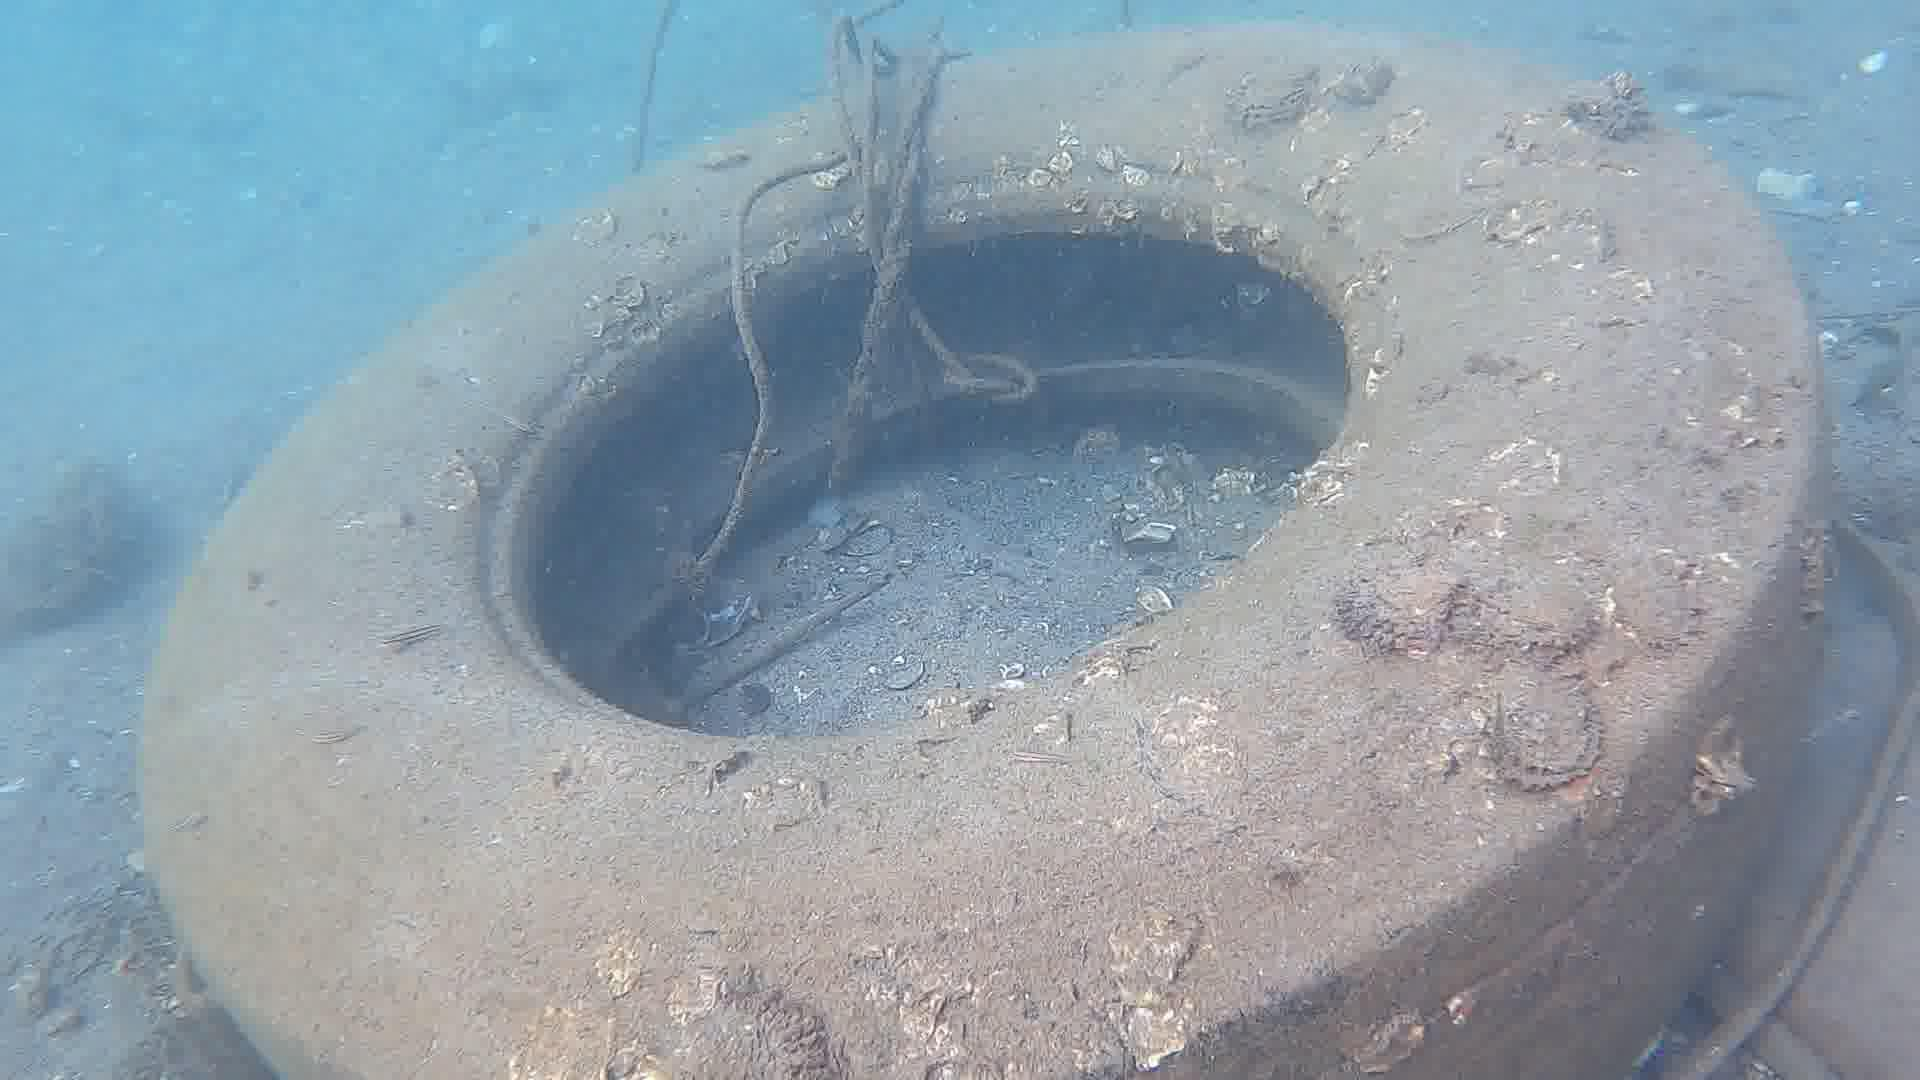bundle of ropes: (698, 0, 1042, 571)
rope: (629, 0, 684, 179)
tire: (132, 18, 1840, 1080)
